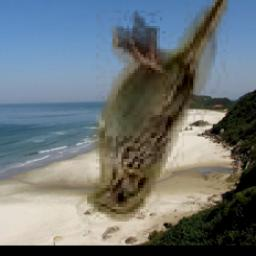Sparrow: (87, 0, 231, 223)
